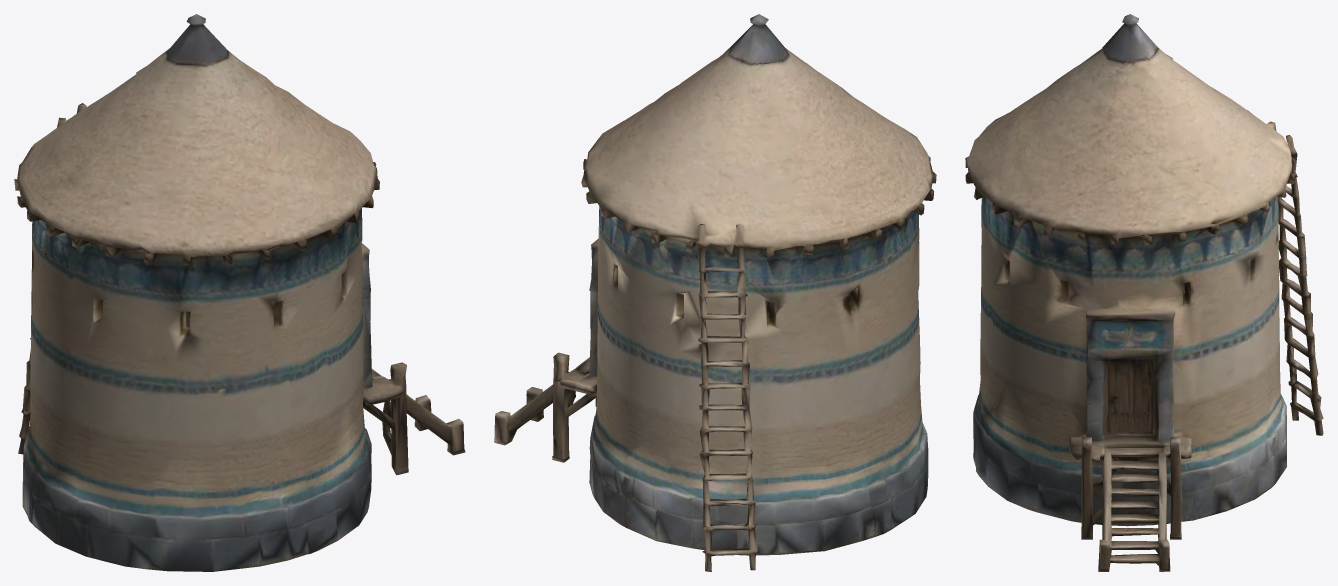
File: silo.glb
The picture shows the model from 3 angles, left to right: view 1: azimuth 30°, elevation 25°; view 2: azimuth 150°, elevation 25°; view 3: azimuth 270°, elevation 25°; orthographic projection. The views are drawn at different scales.
Visible parts, largest first — view 1: tripo_node_b4d073a9-ef92-422b-90be-38812f248ea6; view 2: tripo_node_b4d073a9-ef92-422b-90be-38812f248ea6; view 3: tripo_node_b4d073a9-ef92-422b-90be-38812f248ea6.
Boxes of the visible parts, x1,y1,x2,y2 form: tripo_node_b4d073a9-ef92-422b-90be-38812f248ea6: [14, 14, 465, 571]; tripo_node_b4d073a9-ef92-422b-90be-38812f248ea6: [494, 14, 936, 571]; tripo_node_b4d073a9-ef92-422b-90be-38812f248ea6: [965, 14, 1323, 571].
Size of the model in its own units: 0.8628 by 0.9789 by 0.7129.
Materials: 1 (1 with a texture image).
